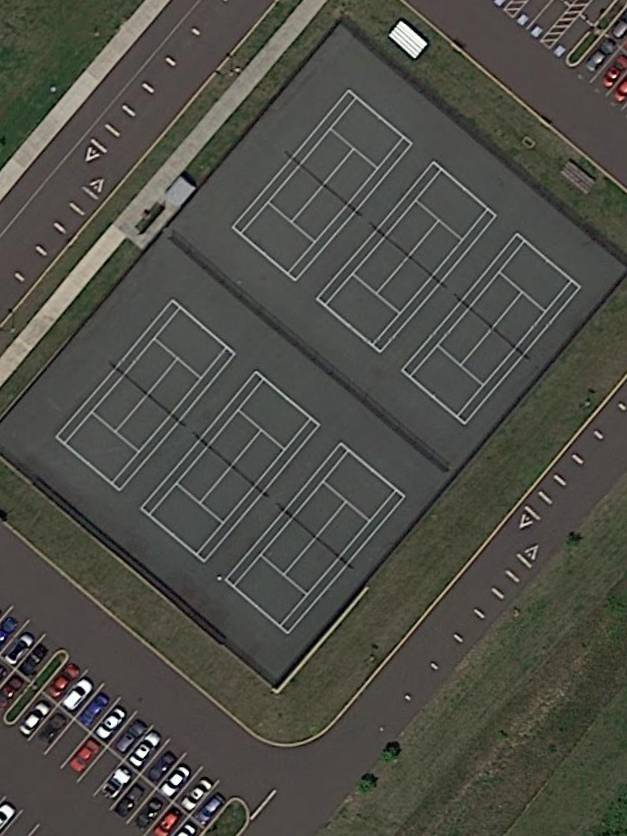small vehicle: (126, 729, 165, 771), (583, 35, 620, 78), (16, 640, 54, 680), (45, 661, 82, 702), (67, 736, 104, 777), (59, 676, 97, 715), (2, 631, 38, 670), (112, 783, 148, 821), (100, 763, 135, 802), (192, 791, 227, 830), (112, 719, 147, 757), (180, 776, 214, 815), (77, 692, 111, 730), (95, 705, 129, 743), (17, 700, 51, 738), (159, 763, 194, 799), (39, 709, 71, 747), (145, 750, 178, 785), (133, 796, 166, 831)
tennis court: (54, 297, 239, 495), (230, 87, 415, 283), (315, 159, 498, 356), (223, 441, 407, 636), (139, 369, 322, 565), (401, 231, 583, 427)
